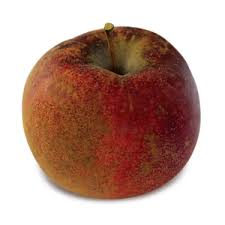apple: (22, 23, 202, 201)
